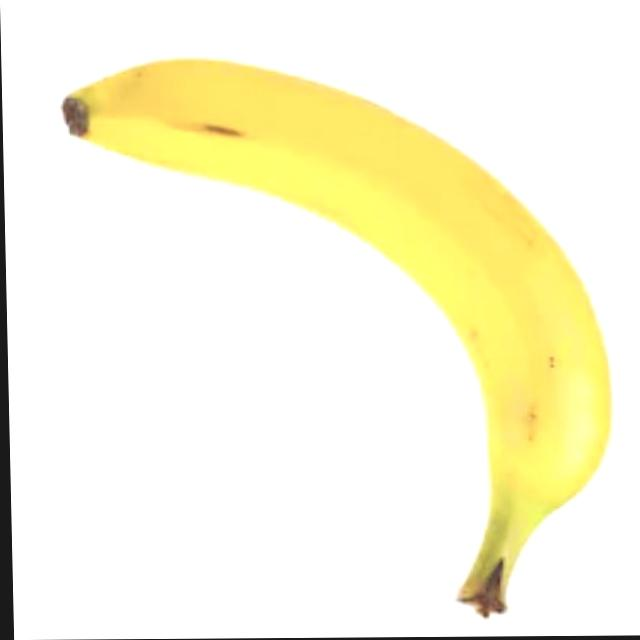Banana: (60, 55, 616, 625)
